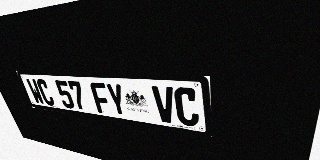5: (54, 80, 76, 109)
7: (66, 81, 89, 111)
C: (173, 87, 200, 127), (35, 79, 56, 106)
F: (89, 82, 112, 115)
V: (151, 86, 177, 124)
W: (25, 78, 45, 105)
Y: (105, 83, 128, 117)
